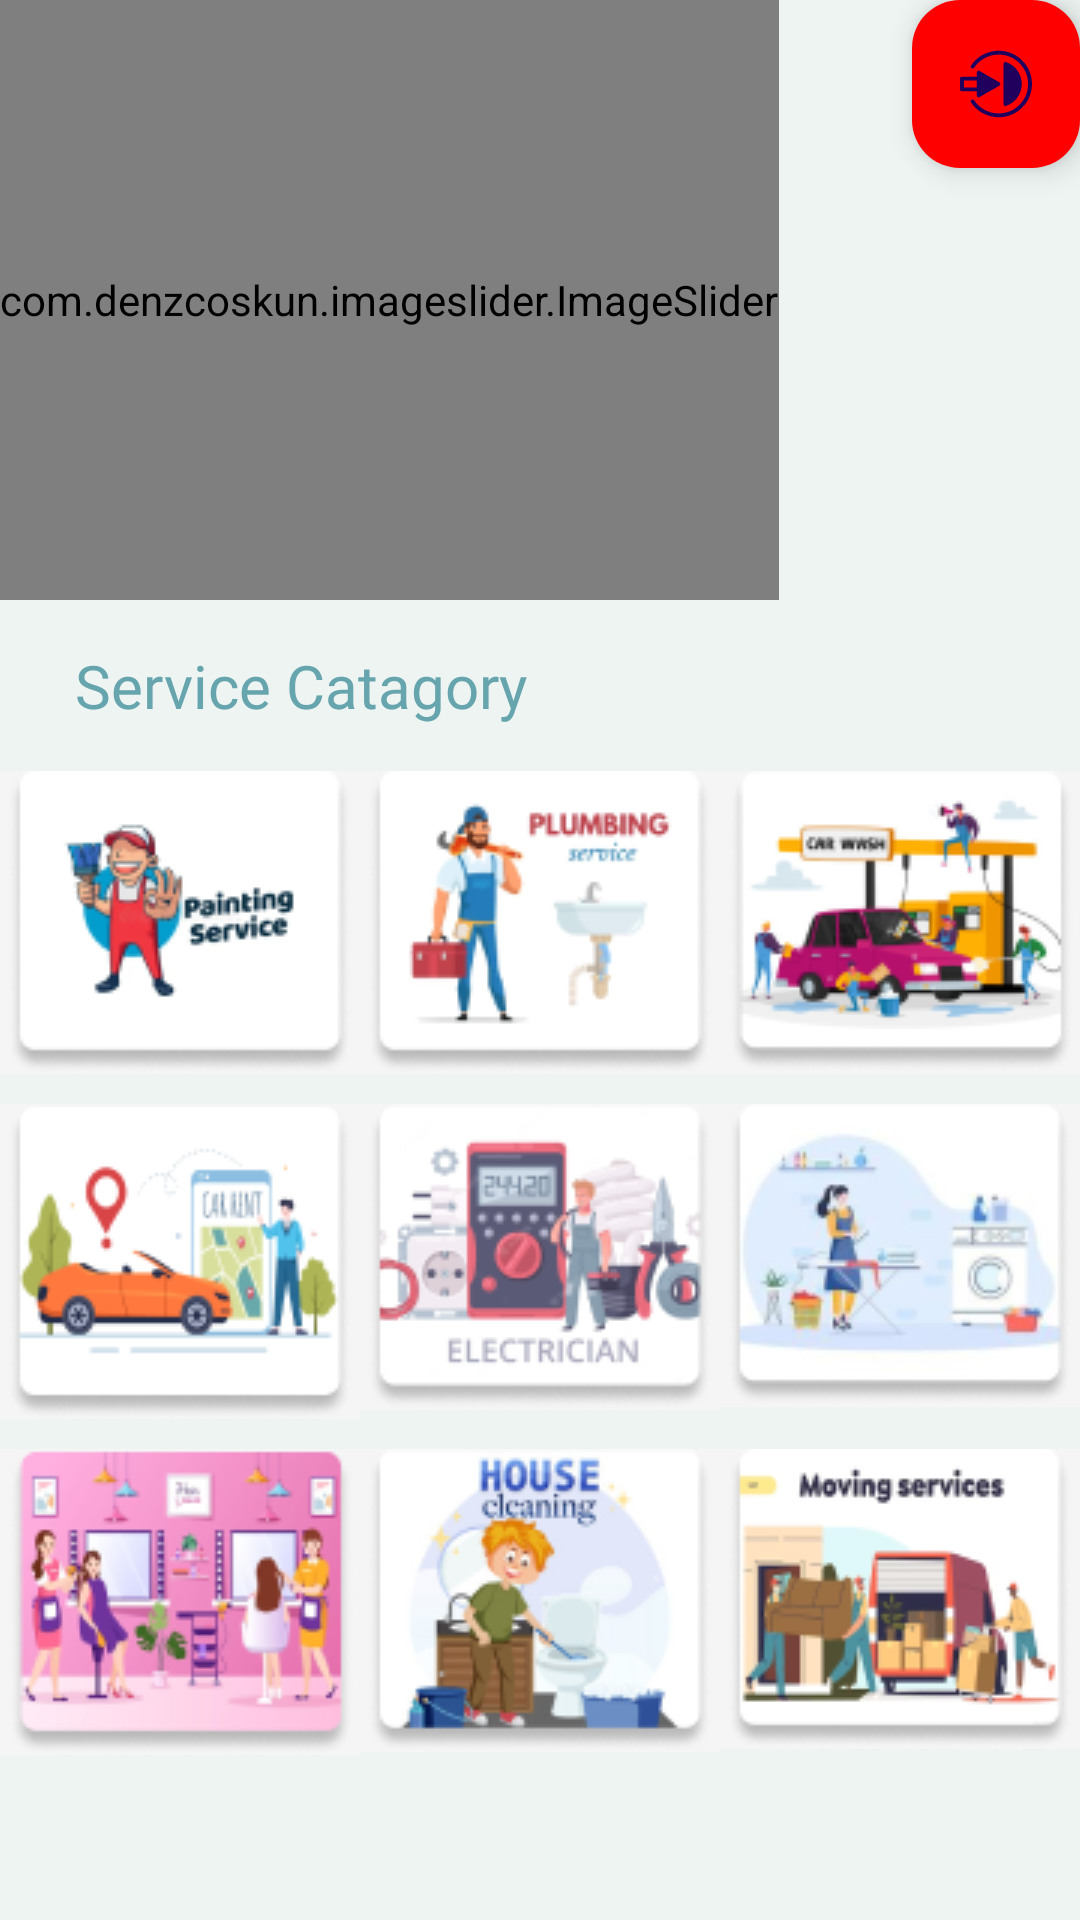

Locate icon controls on the screen. Image size 1080×1920, boxes as (x1, y1, x2, y2).
login: (912, 0, 1080, 168)
londi: (733, 1107, 1066, 1399)
parler: (19, 1451, 342, 1744)
